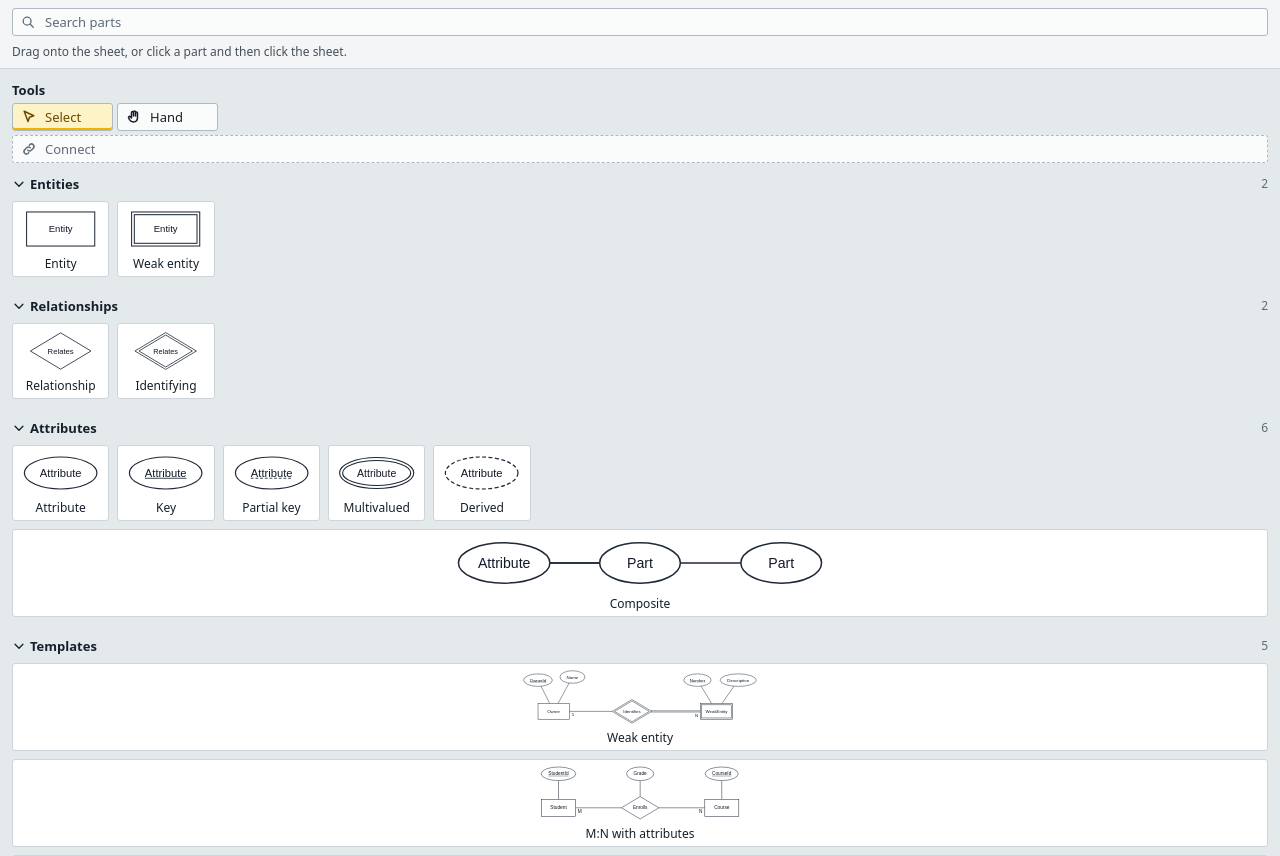
Test: search and collapsing › filters parts by localized label and keywords and explains an empty result
Type "underline" into the search field labelled "Search parts" at (651, 22), box [43,9,1259,35]
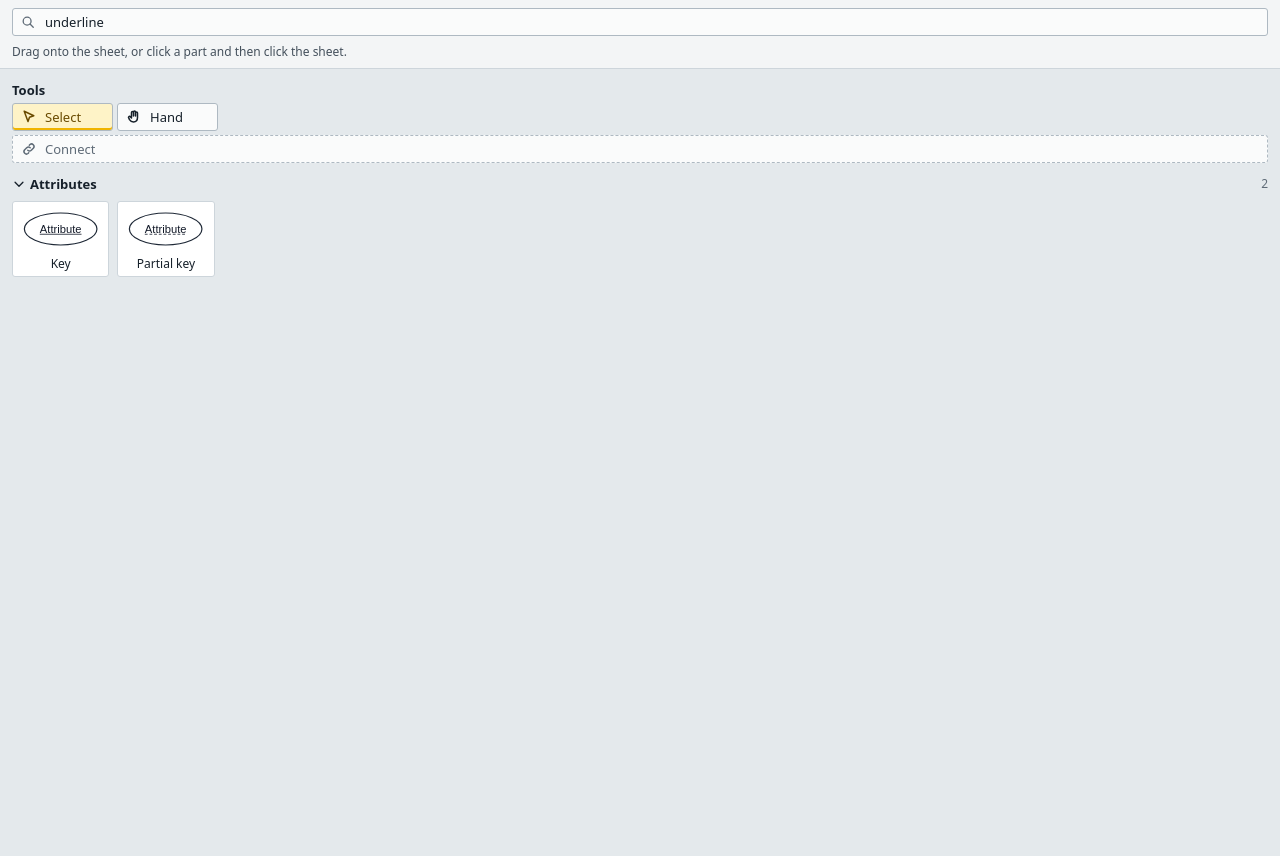
expect the button "Attribute Key" is shown: met, box [12,201,109,277]
Replace the text in the search field named "Search parts" with "zzzz" at (651, 22), box [43,9,1259,35]
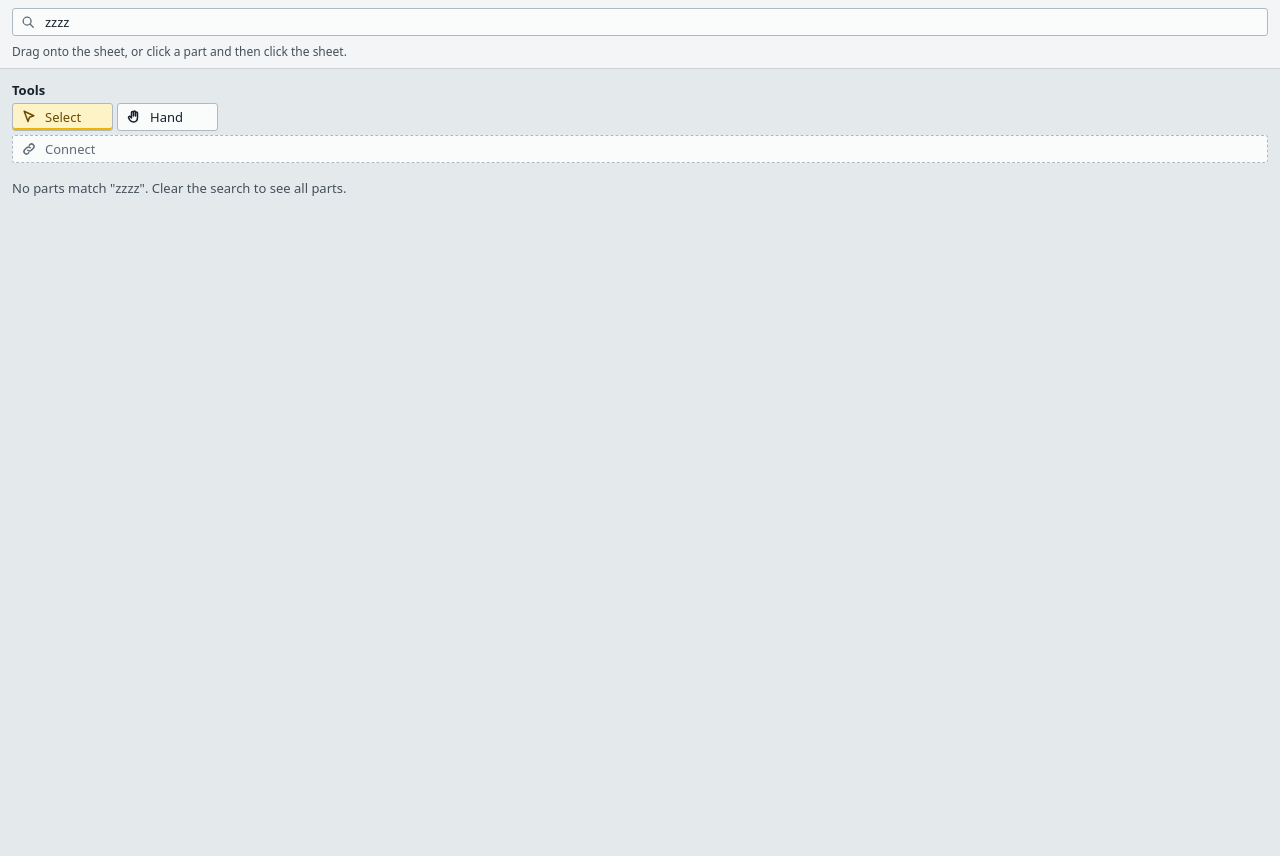
expect the text "No parts match \"zzzz\". Clear the search to see all parts." is shown: met, box [12,179,346,197]
Press Escape in the search field named "Search parts", box [43,9,1259,35]
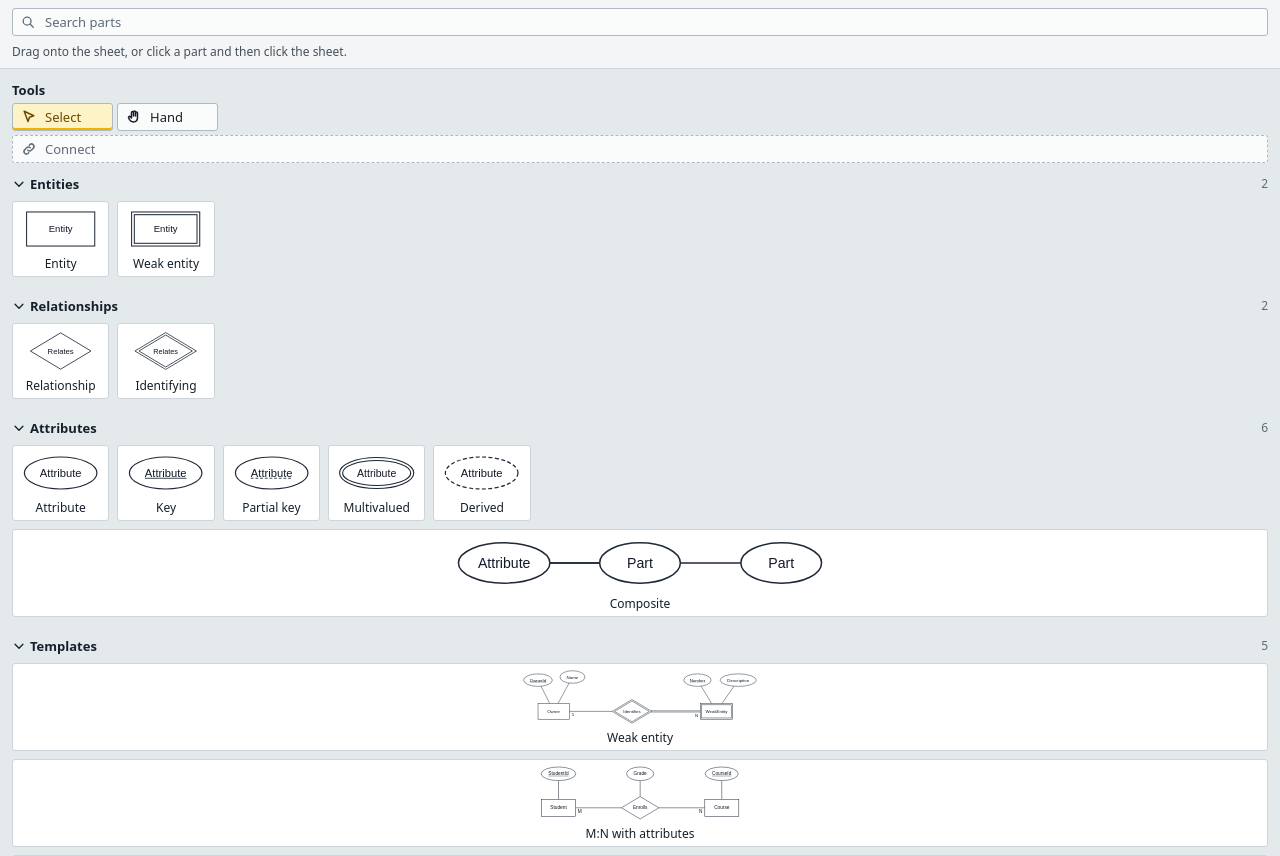
expect the search field labelled "Search parts" is empty: met, box [43,9,1259,35]
expect the button "Entity Entity" is shown: met, box [12,201,109,277]
